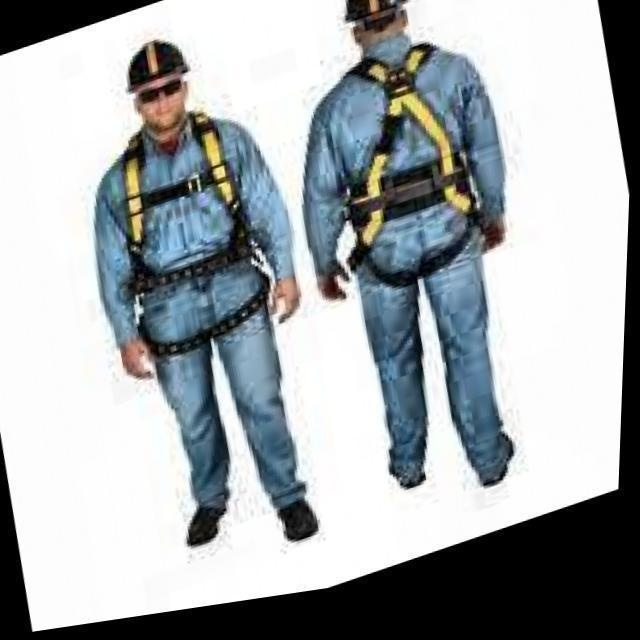Arnes_seguridad: (100, 117, 280, 344), (332, 45, 496, 269)
